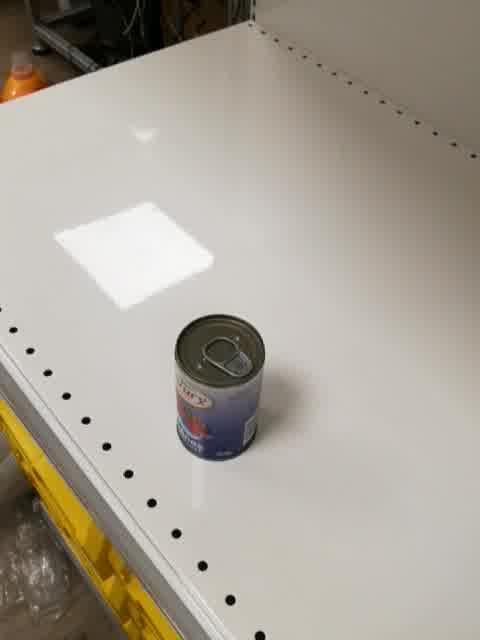sardine: (173, 312, 266, 464)
